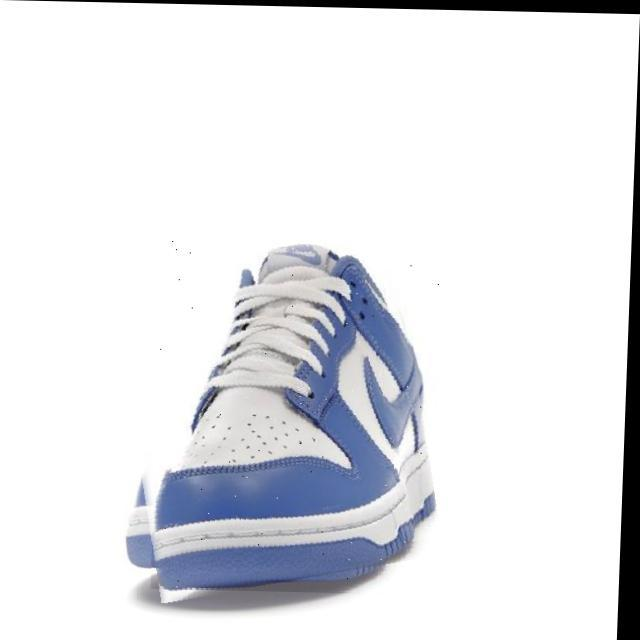J1_InsoleChar: (3, 4, 634, 636)
J1_ShoeLogo: (124, 241, 437, 603)
J1_StitchPattern: (191, 258, 353, 427), (132, 488, 437, 564)
